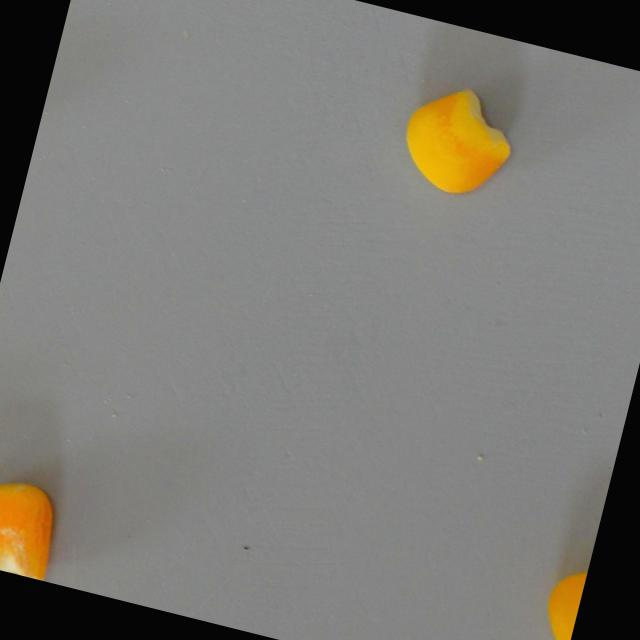no_canjicado: (392, 74, 523, 202), (536, 559, 588, 640)
pelicula: (0, 472, 66, 581)
